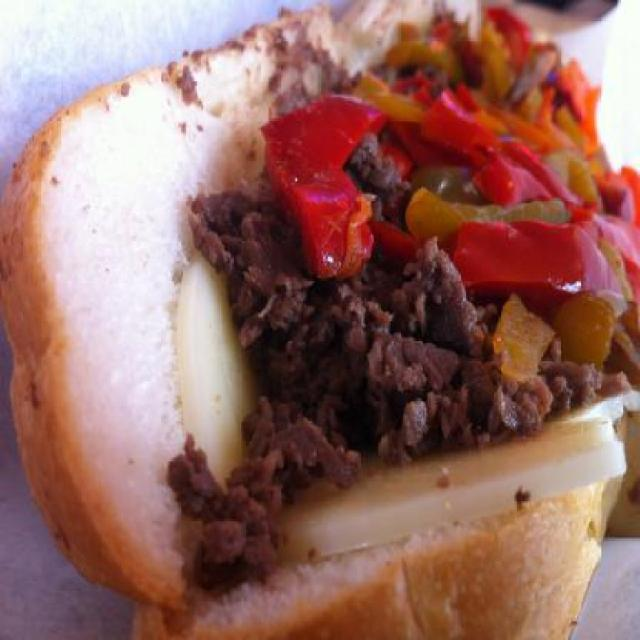Hot dog: (0, 0, 631, 638)
